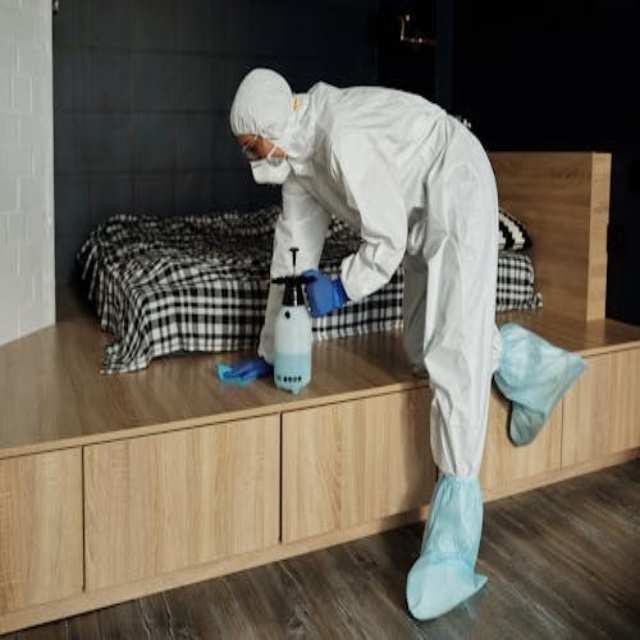Gafas: (241, 136, 271, 163)
Guantes: (302, 270, 349, 318), (215, 357, 272, 384)
Mascara: (250, 146, 292, 186)
